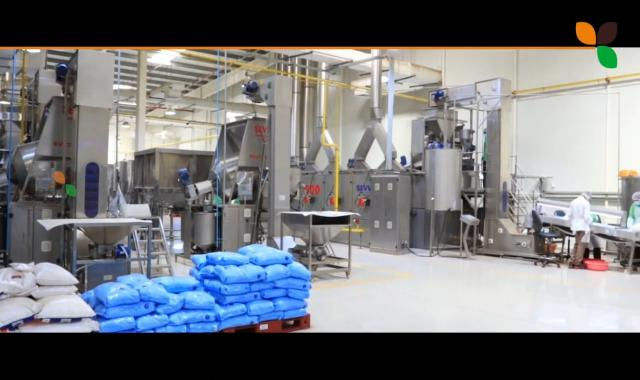hairnet: (633, 191, 640, 202), (582, 190, 590, 196)
